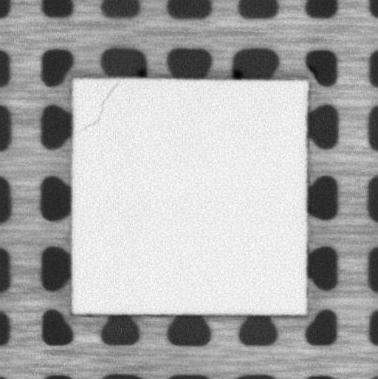DIE_CRACK: (77, 82, 122, 133)
